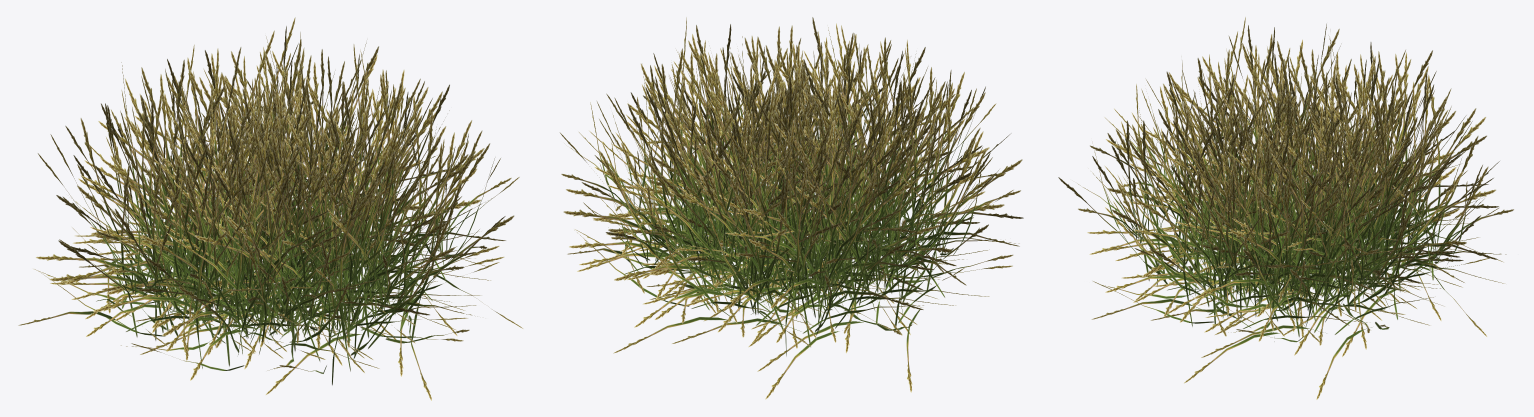
Rendered from tussock-sedge.glb.
3 renders of one model, left to right at view 1: azimuth 30°, elevation 25°; view 2: azimuth 150°, elevation 25°; view 3: azimuth 270°, elevation 25°, orthographic. The views are drawn at different scales.
Parts seen in each view (by area): view 1: narrowleaf-sedge; view 2: narrowleaf-sedge; view 3: narrowleaf-sedge.
Boxes of the visible parts, x1=… form: narrowleaf-sedge: x1=18, y1=17, x2=523, y2=400; narrowleaf-sedge: x1=559, y1=17, x2=1023, y2=399; narrowleaf-sedge: x1=1058, y1=17, x2=1513, y2=399.
Bounding box in the file's own units: 1.97 × 1.08 × 1.97.
Materials: 1 (1 with a texture image).
